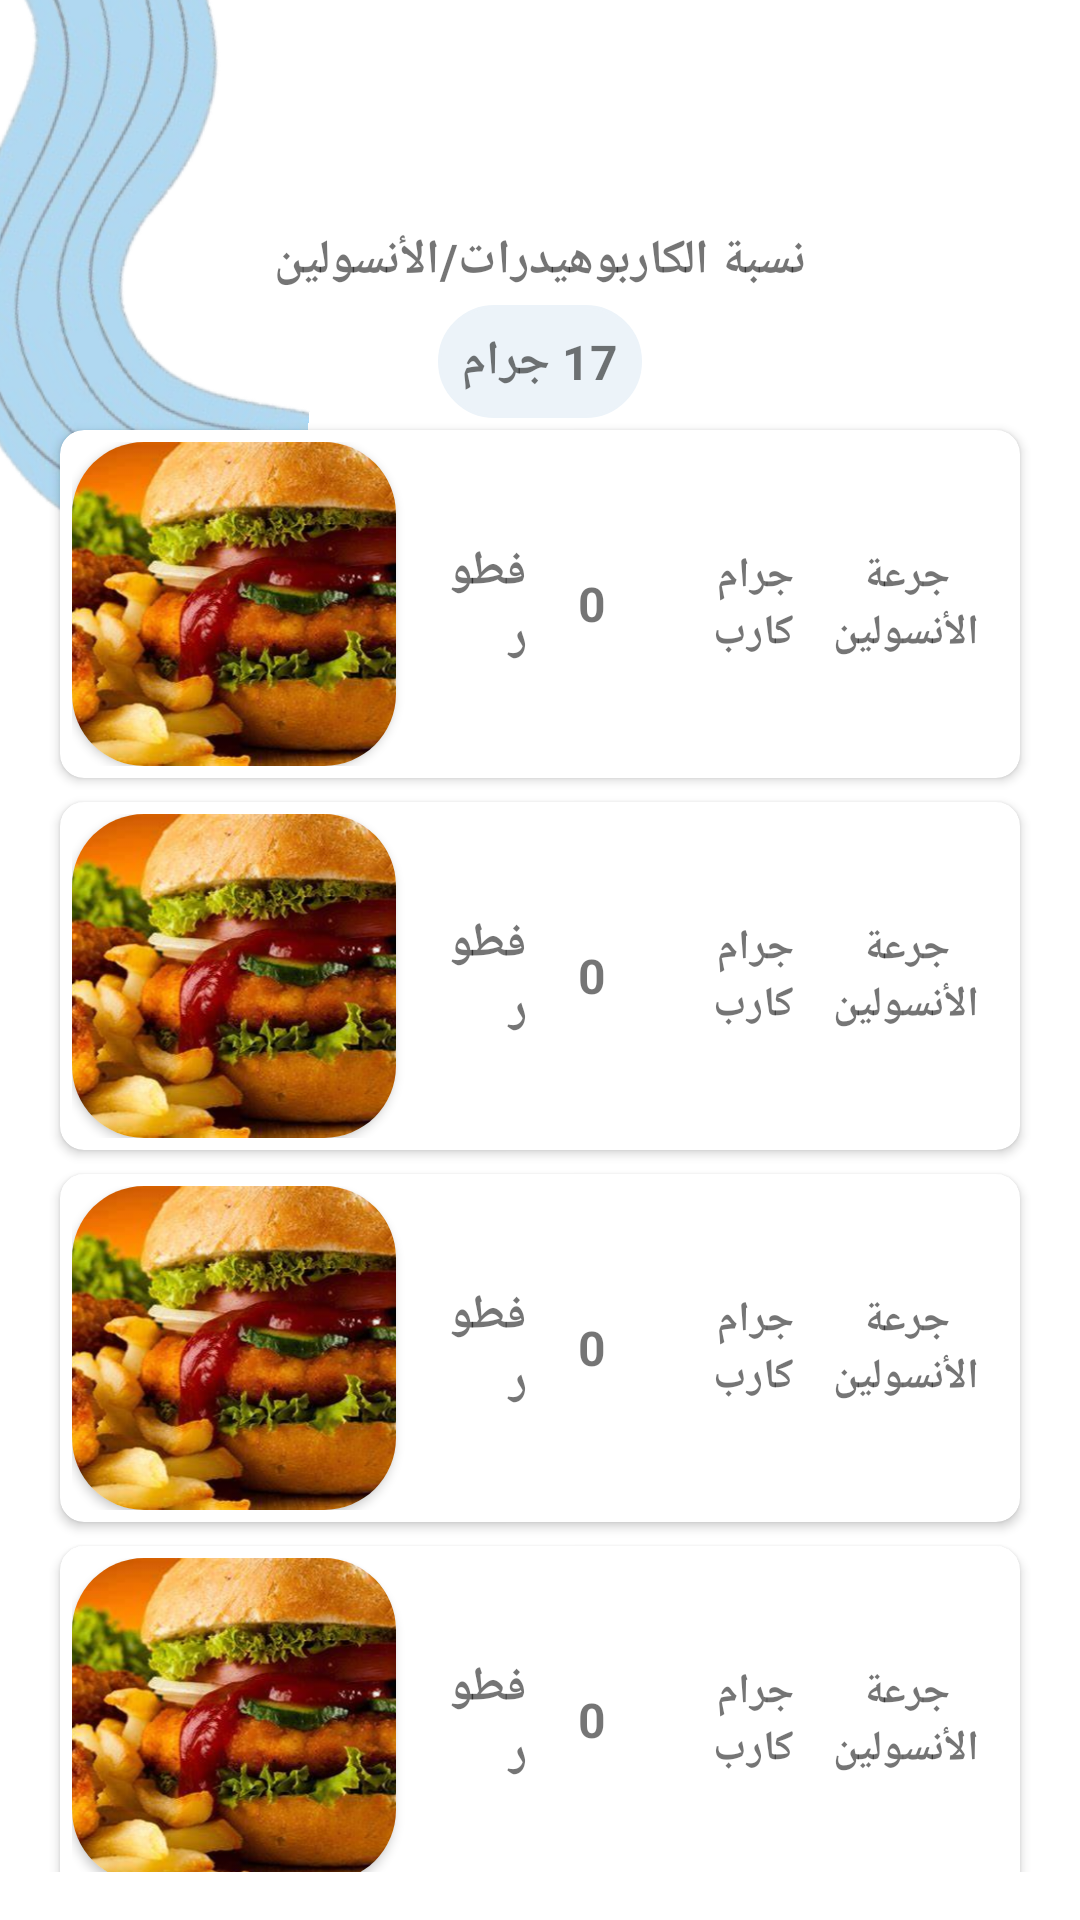

Point at icon controls on the screen. Image size 1080 × 1920, points as (x,y).
meal: (234,604), (234,976), (234,1348), (234,1715)
